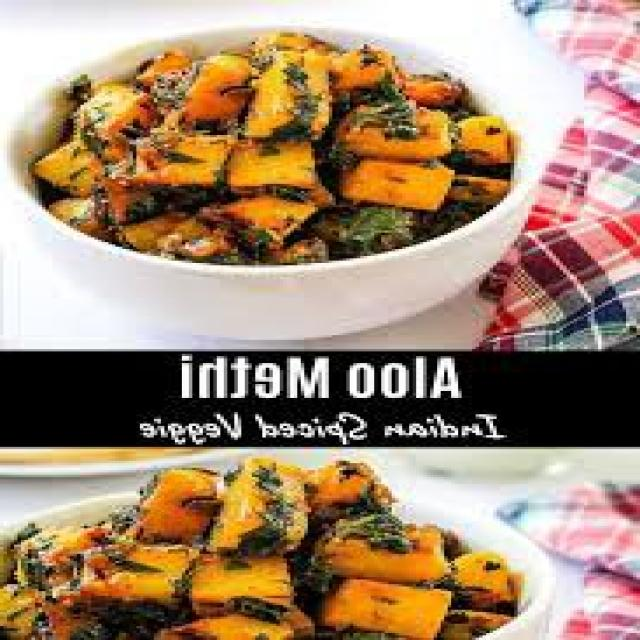Aloo Methi: (9, 4, 548, 270), (1, 449, 525, 640)
